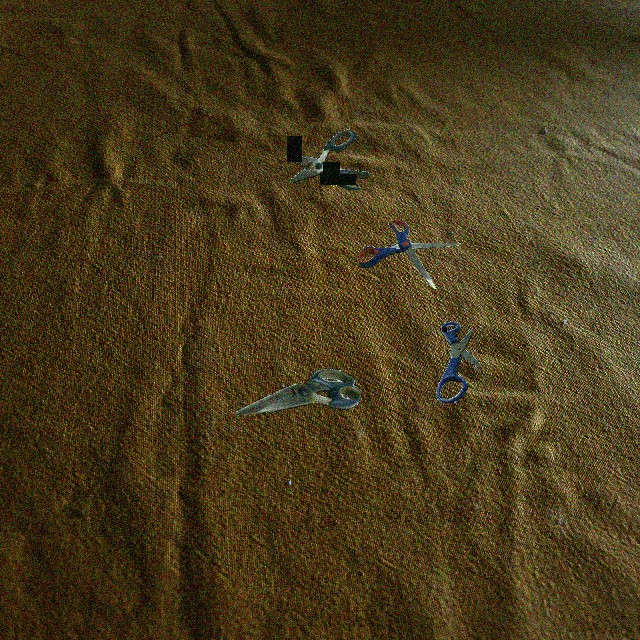scissors: (359, 221, 461, 289), (235, 368, 361, 415), (285, 128, 369, 190), (435, 321, 481, 403)
